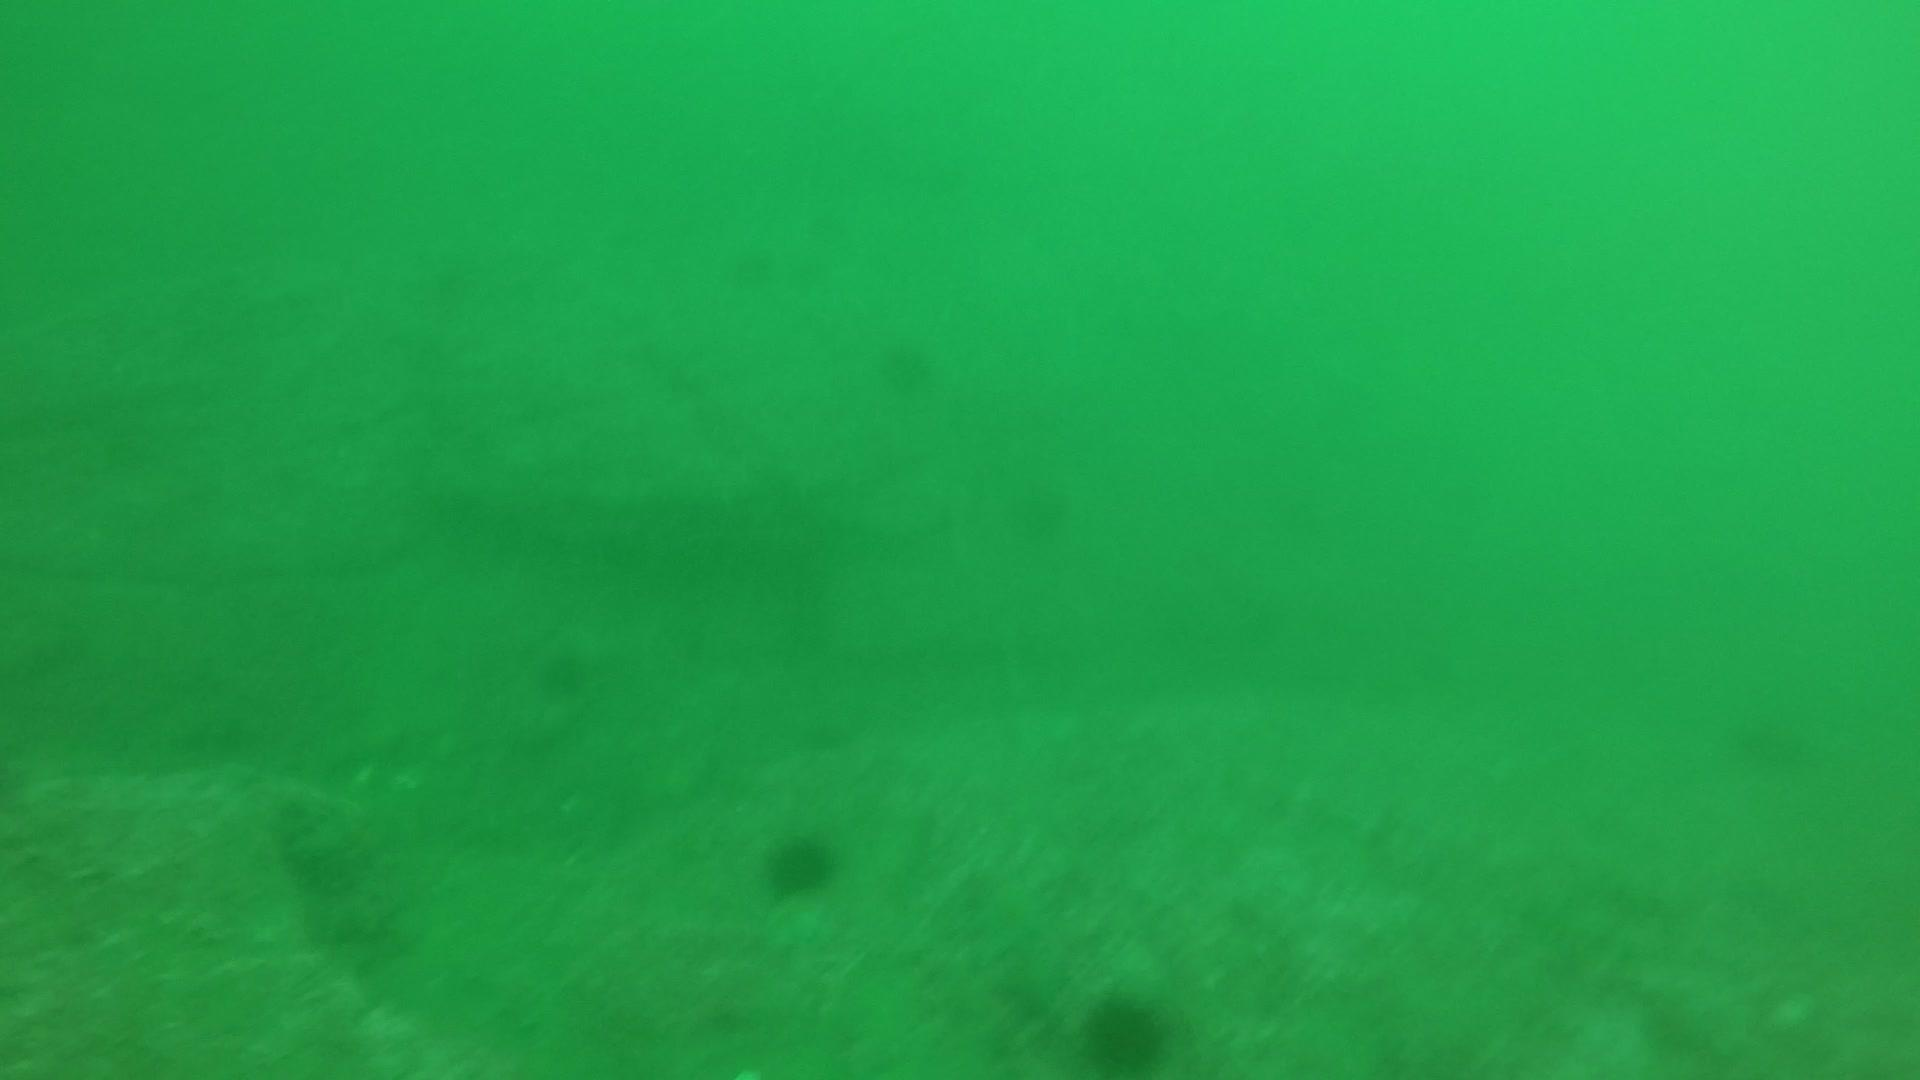echinus: (1076, 986, 1174, 1073), (1725, 702, 1818, 777), (760, 825, 843, 901), (1004, 472, 1077, 545), (872, 328, 942, 397), (530, 638, 597, 702)
